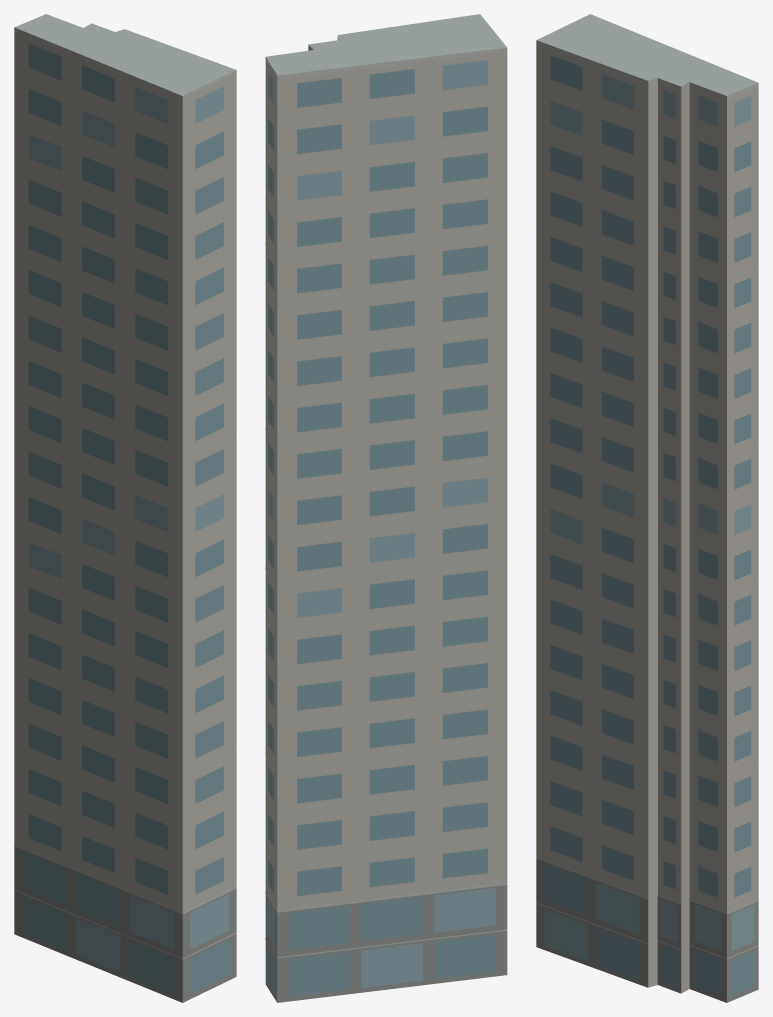
Rendered from survey-upis-32518220.glb.
3 views of the same model, side by side, from view 1: azimuth 90°, elevation 25°; view 2: azimuth 150°, elevation 25°; view 3: azimuth 270°, elevation 25° (orthographic). The views are drawn at different scales.
Parts seen in each view (by area): view 1: survey-upis-32518220.tmp; view 2: survey-upis-32518220.tmp; view 3: survey-upis-32518220.tmp.
Boxes of the visible parts, left/top/right/bottom form: survey-upis-32518220.tmp: left=14, top=14, right=236, bottom=1002; survey-upis-32518220.tmp: left=265, top=14, right=507, bottom=1002; survey-upis-32518220.tmp: left=536, top=14, right=758, bottom=1002.
Bounding box in the file's own units: 11.85 × 61 × 13.57.
